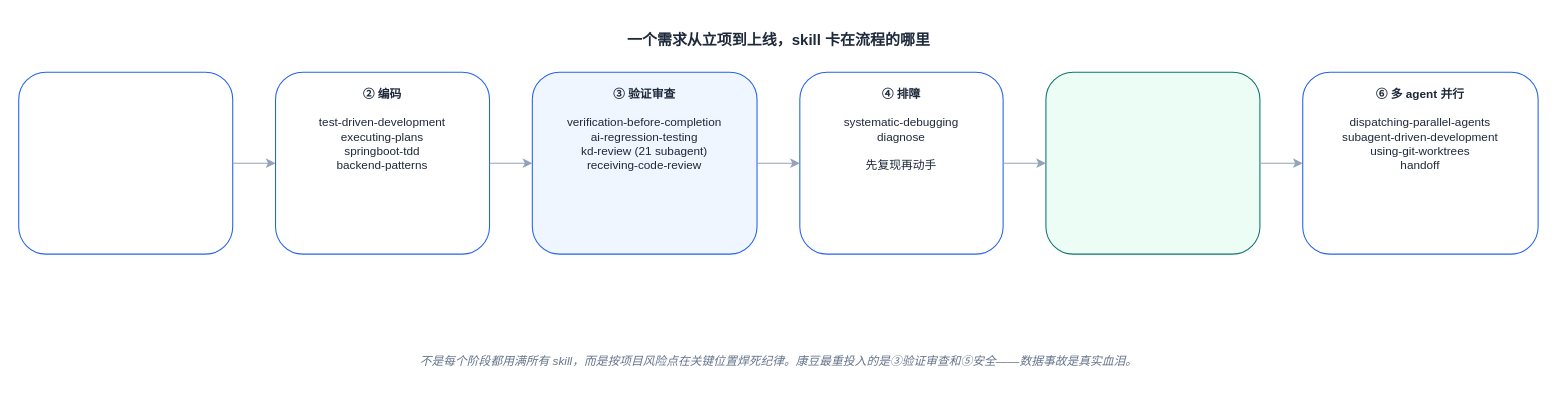
Some shapes in this 1557 by 400 pixel diagram are drawn without their labels. Here are the shapes that lost their labels. From the top down, the centre of each, then its label:
the point at 125,162: ① 需求对齐 brainstorming to-prd ubiquitous-language grill-me
the point at 1152,162: ⑤ 安全 / 数据 security-review git-guardrails DELETE 三必查 (事故后补的牢)
